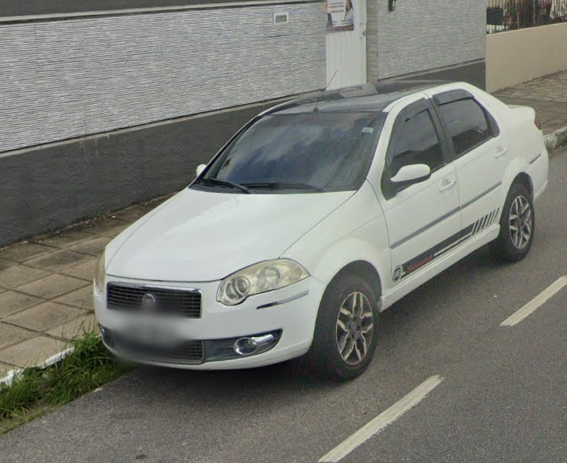car: (92, 70, 550, 380)
